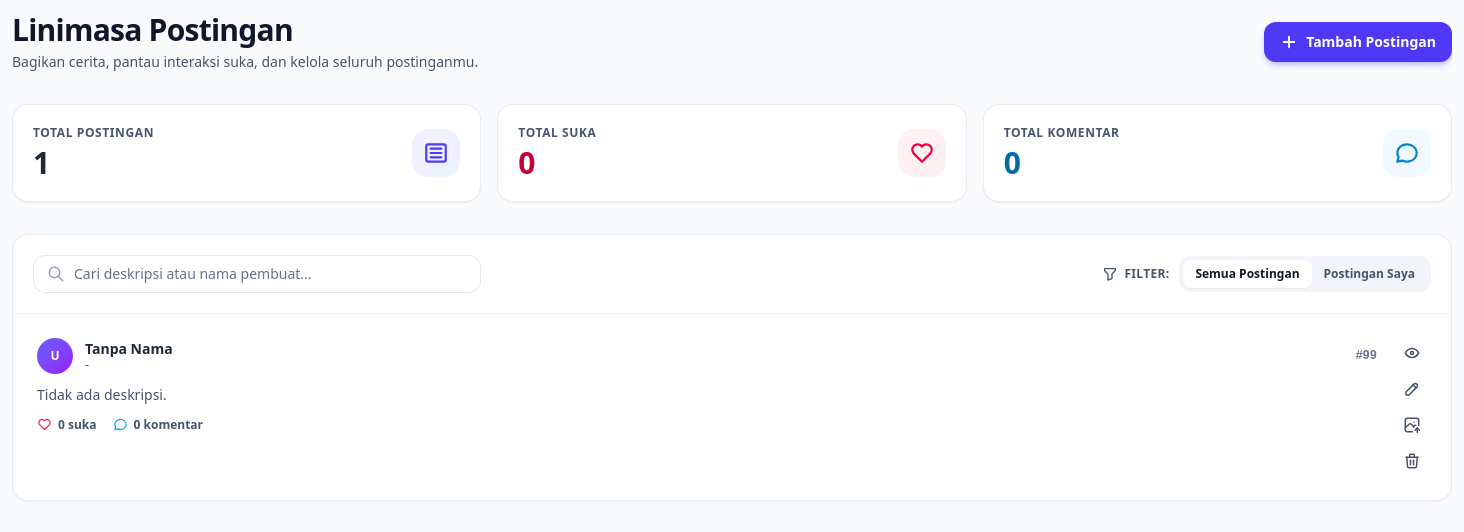
it: HomePage › should handle search against posts with null description and missing author
Expected: the text "Tanpa Nama" is shown, [85,340,173,357]
Expected: the text "Tidak ada deskripsi." is shown, [37,385,167,404]
Type "xyz" into the field with test id "search-post-input" at [257, 274], box [33,255,481,293]
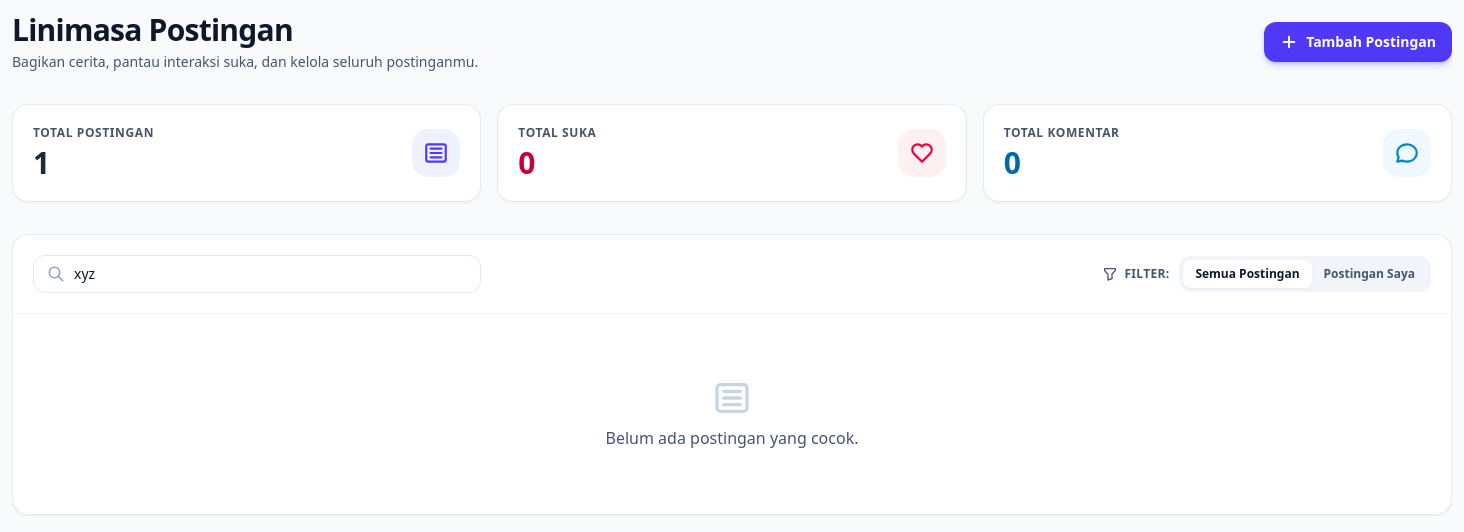
Expected: the text "Belum ada postingan yang cocok." is shown, [606,427,858,449]
